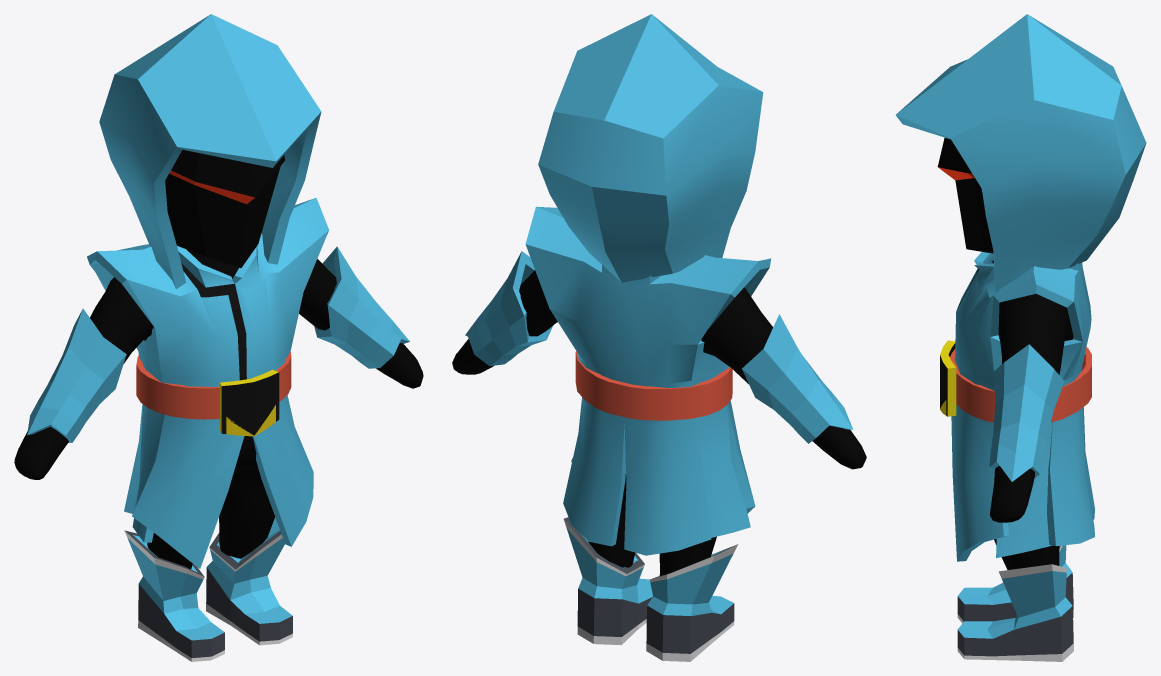
File: Scifi Character.fbx
The picture shows the model from 3 angles, left to right: view 1: azimuth 30°, elevation 25°; view 2: azimuth 150°, elevation 25°; view 3: azimuth 270°, elevation 25°; orthographic projection.
Parts seen in each view (by area): view 1: suit, hoodie, shoes, Character_body, armor, head, belt; view 2: suit, hoodie, shoes, armor, Character_body, belt; view 3: hoodie, suit, shoes, armor, Character_body, belt, head.
Part boxes in pixels (x1,y1,x2,y2): suit: (87,197,328,568); hoodie: (99,14,321,288); shoes: (124,517,292,661); Character_body: (14,249,423,569); armor: (27,246,409,442); head: (165,150,285,267); belt: (136,352,291,436); suit: (525,206,771,555); hoodie: (538,14,763,282); shoes: (563,517,738,661); armor: (465,251,853,443); Character_body: (452,270,866,575); belt: (575,351,732,420); hoodie: (896,14,1146,293); suit: (951,252,1094,561); shoes: (957,545,1073,661); armor: (989,344,1064,481); Character_body: (990,260,1073,569); belt: (940,340,1091,422); head: (937,138,993,253).
Bounding box in the file's own units: 120 × 174 × 63.72.
Materials: 1 (1 with a texture image).
